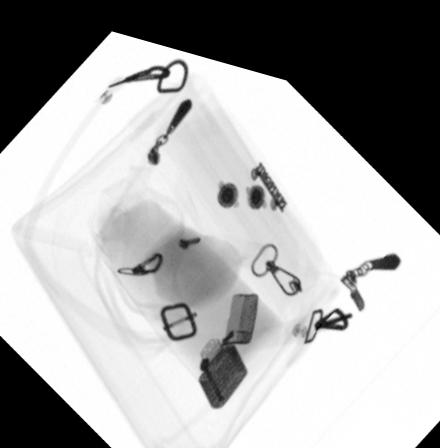Lighter: (195, 278, 257, 397)
